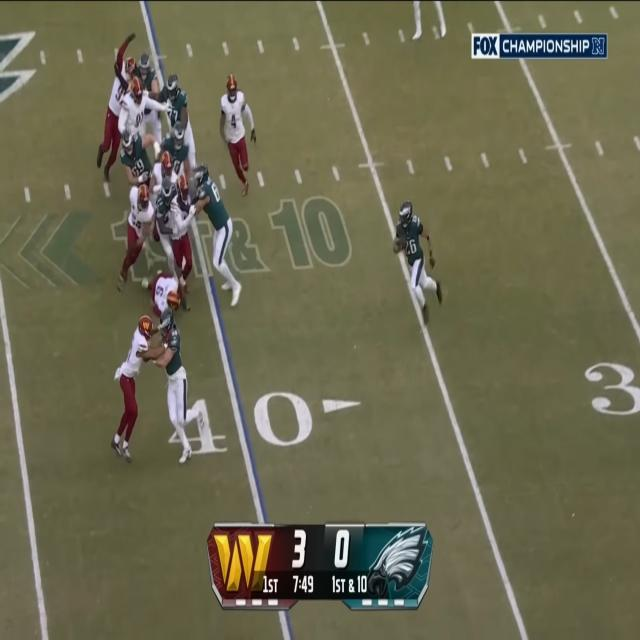Ball: (397, 237, 407, 250)
